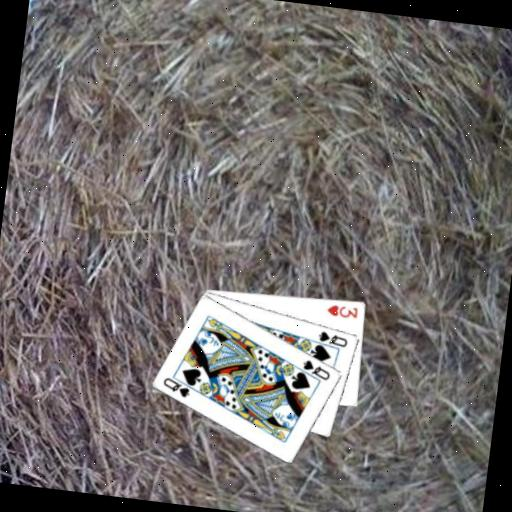3H: (324, 301, 360, 321)
QS: (159, 373, 194, 400), (298, 356, 333, 382), (315, 327, 351, 349)
